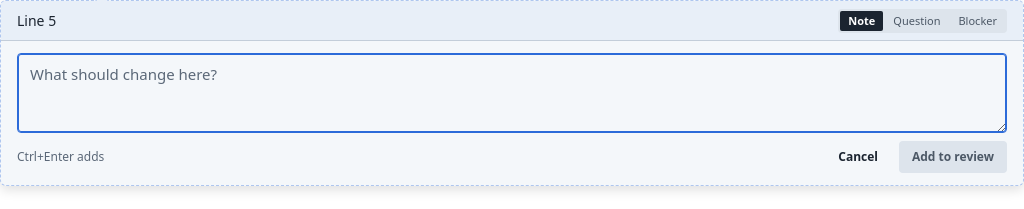
Test case: a comment field › takes no more text than the server takes
Type "Longer than that" into the text box with test id "comment-input" at (512,93), box [17,53,1007,133]
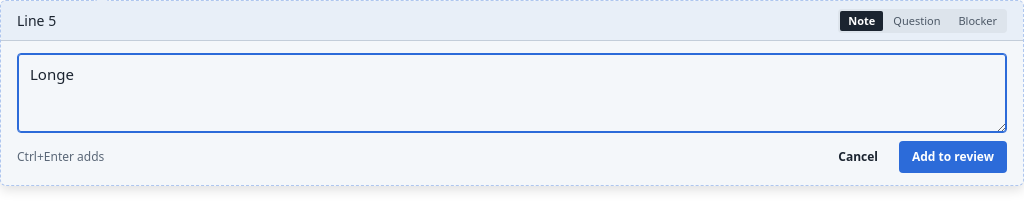
Now the text box with test id "comment-input" holds "Longe", box [17,53,1007,133]
